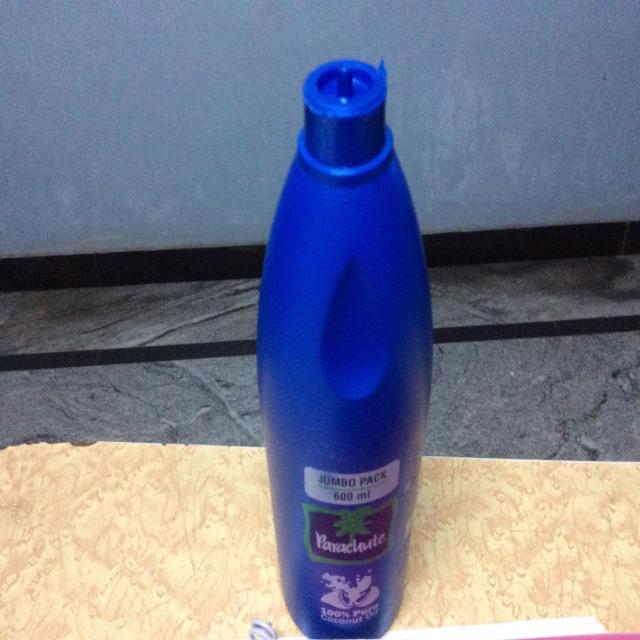parachute_oil: (249, 39, 439, 640)
